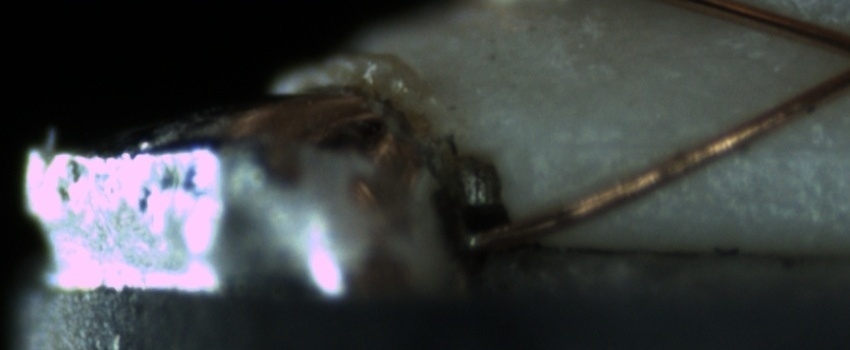DL: (543, 113, 850, 176)
